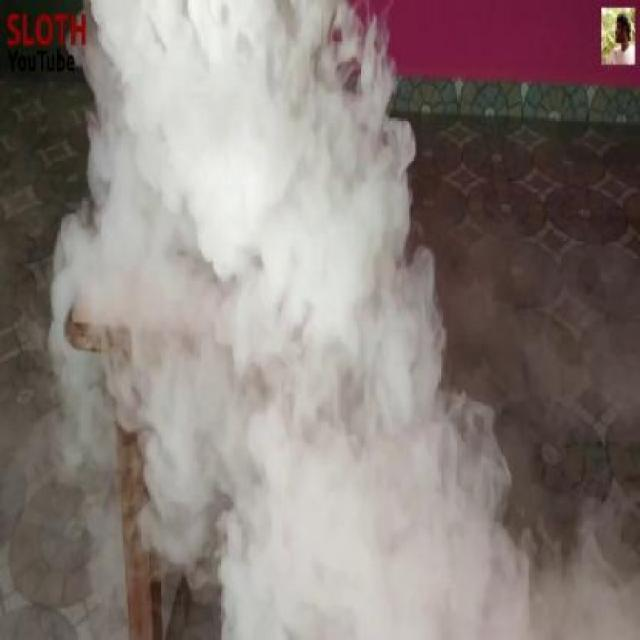Smoke: (46, 1, 636, 640)
